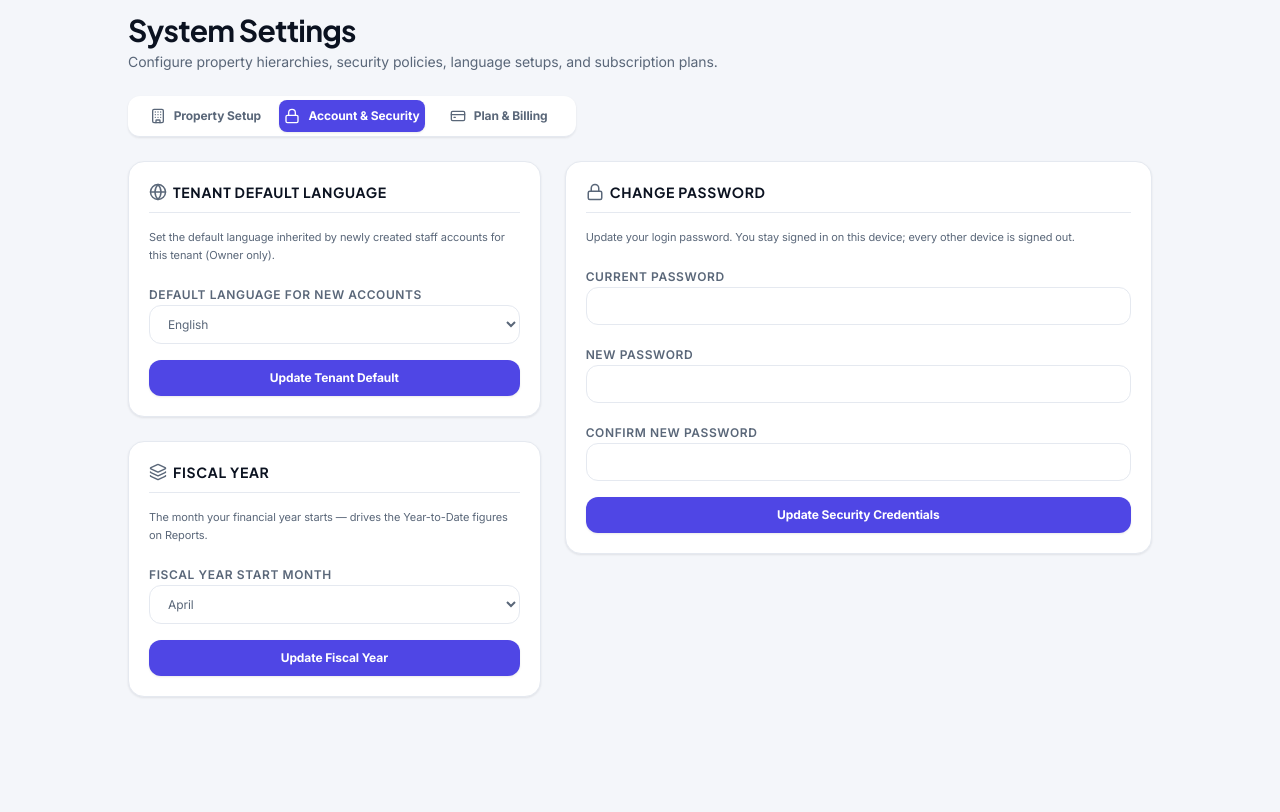
Settings → change password › a wrong current password shows the backend's message under that field and changes nothing
Type "Vintage-Kite-77" into the password field labelled "Current Password" at (858, 306), box [586,287,1131,325]
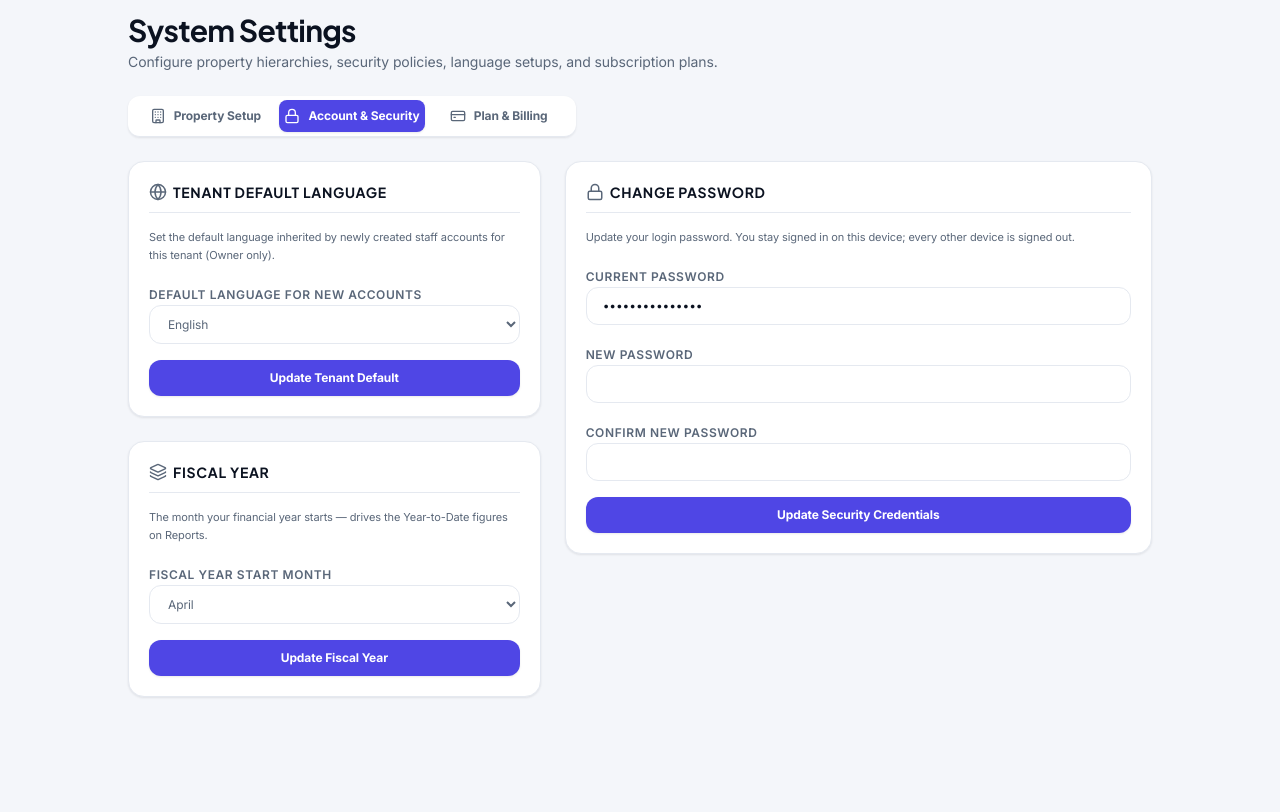
Type "Copper-Meadow-42" into the password field labelled "New Password" at (858, 384), box [586,365,1131,403]
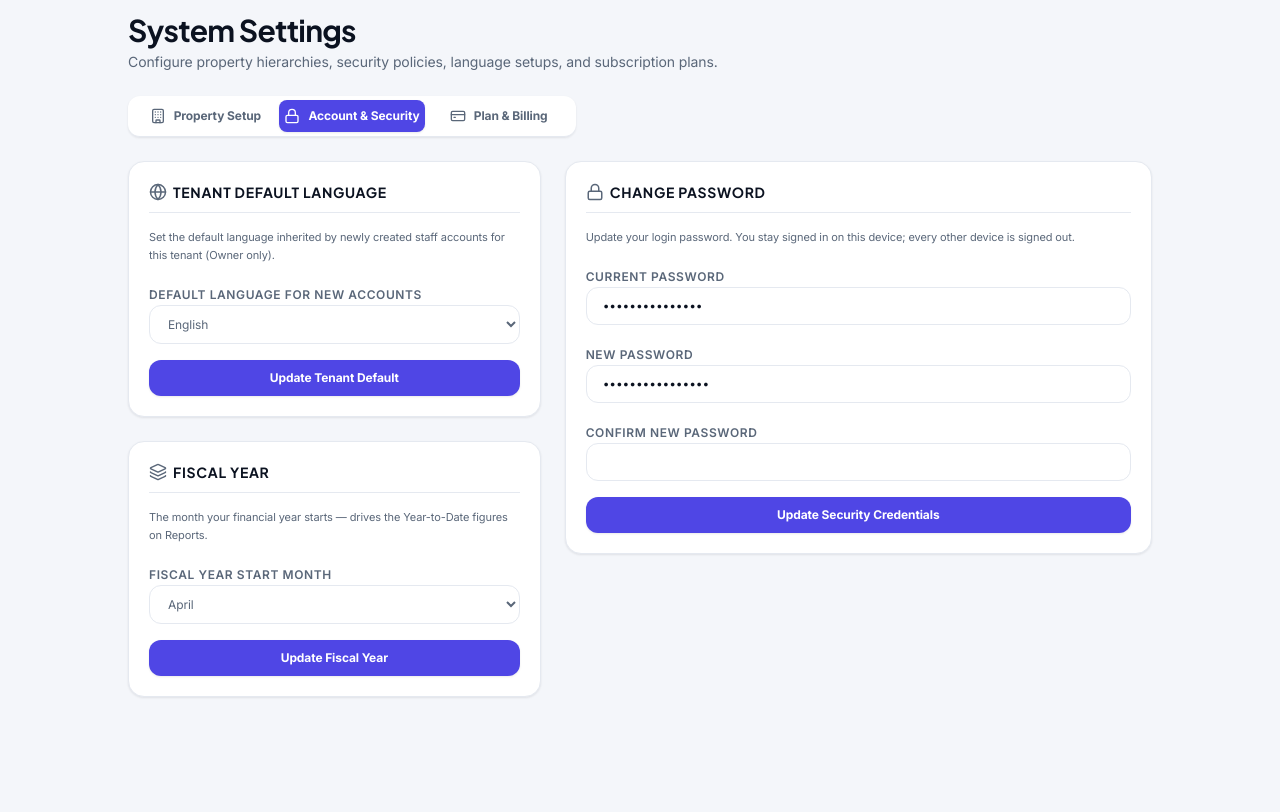
Type "Copper-Meadow-42" into the password field labelled "Confirm New Password" at (858, 462), box [586,443,1131,481]
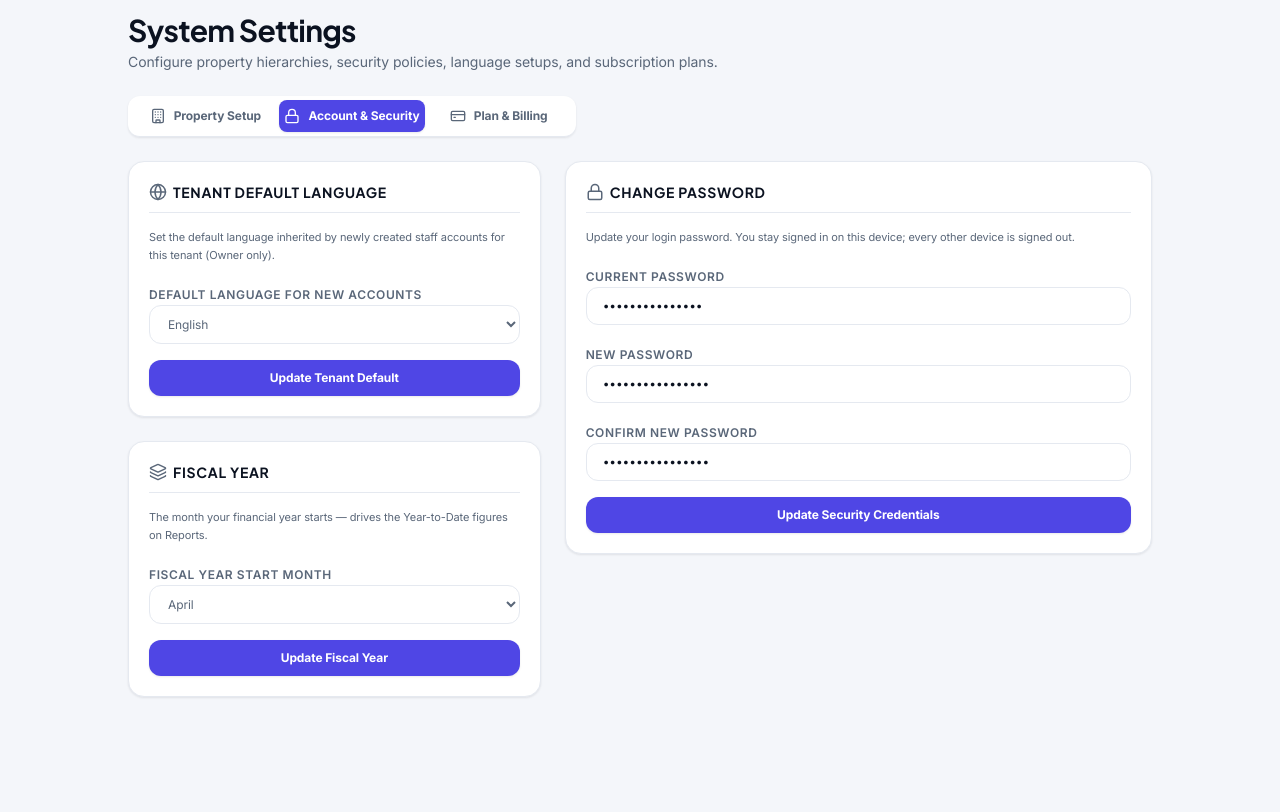
Click the button "Update Security Credentials" at (858, 515), box [586,497,1131,533]
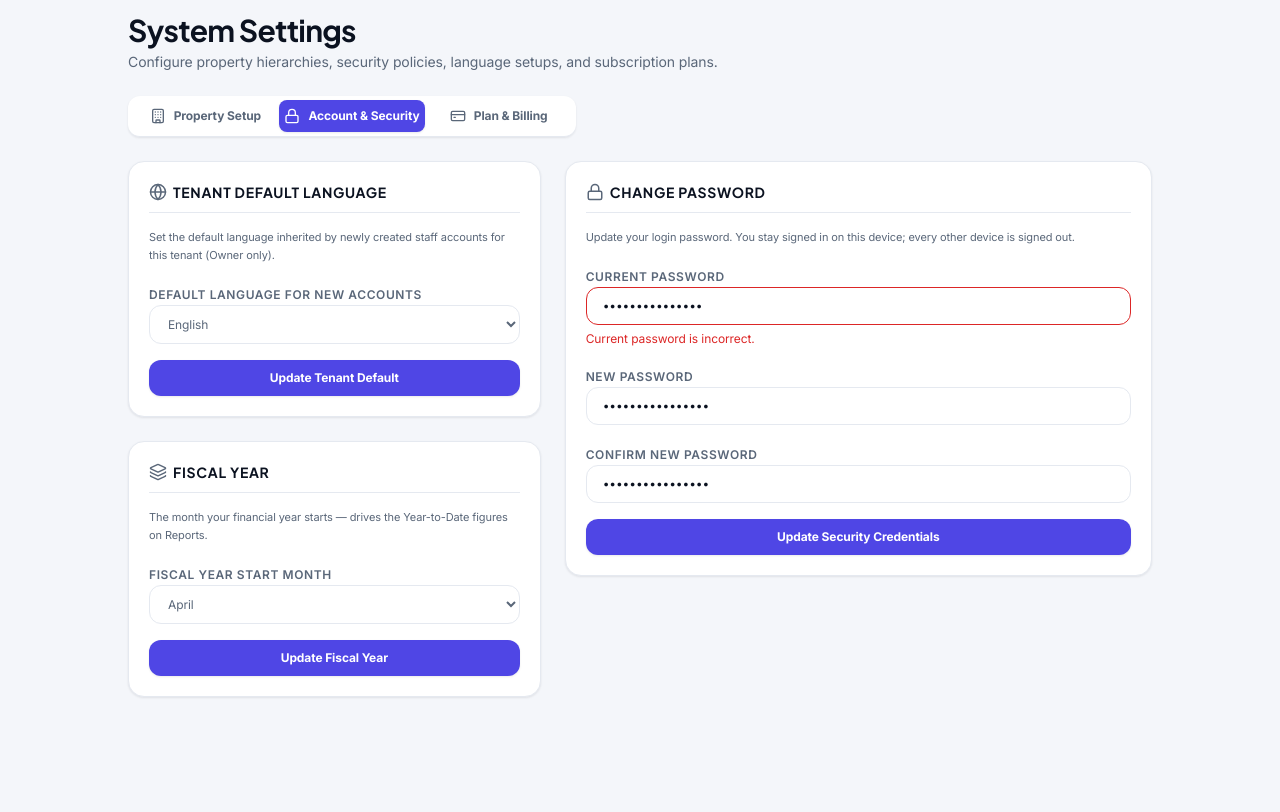
Expected: the text "Current password is incorrect." is shown, [586,331,755,346]
